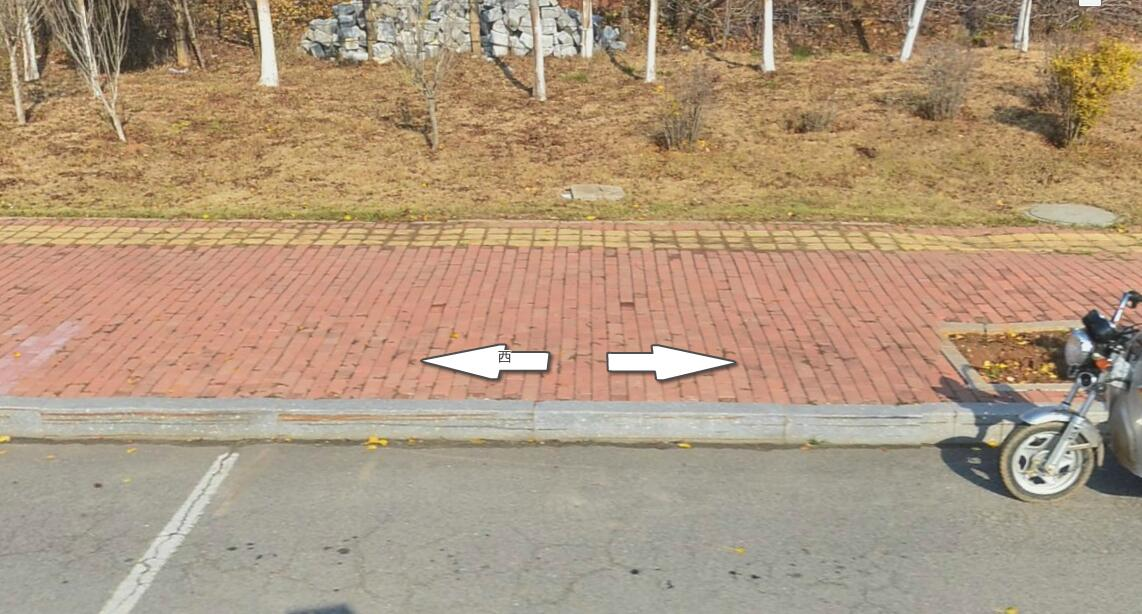side: (534, 399, 787, 446), (278, 398, 533, 443), (42, 396, 277, 441), (787, 403, 1004, 446)
